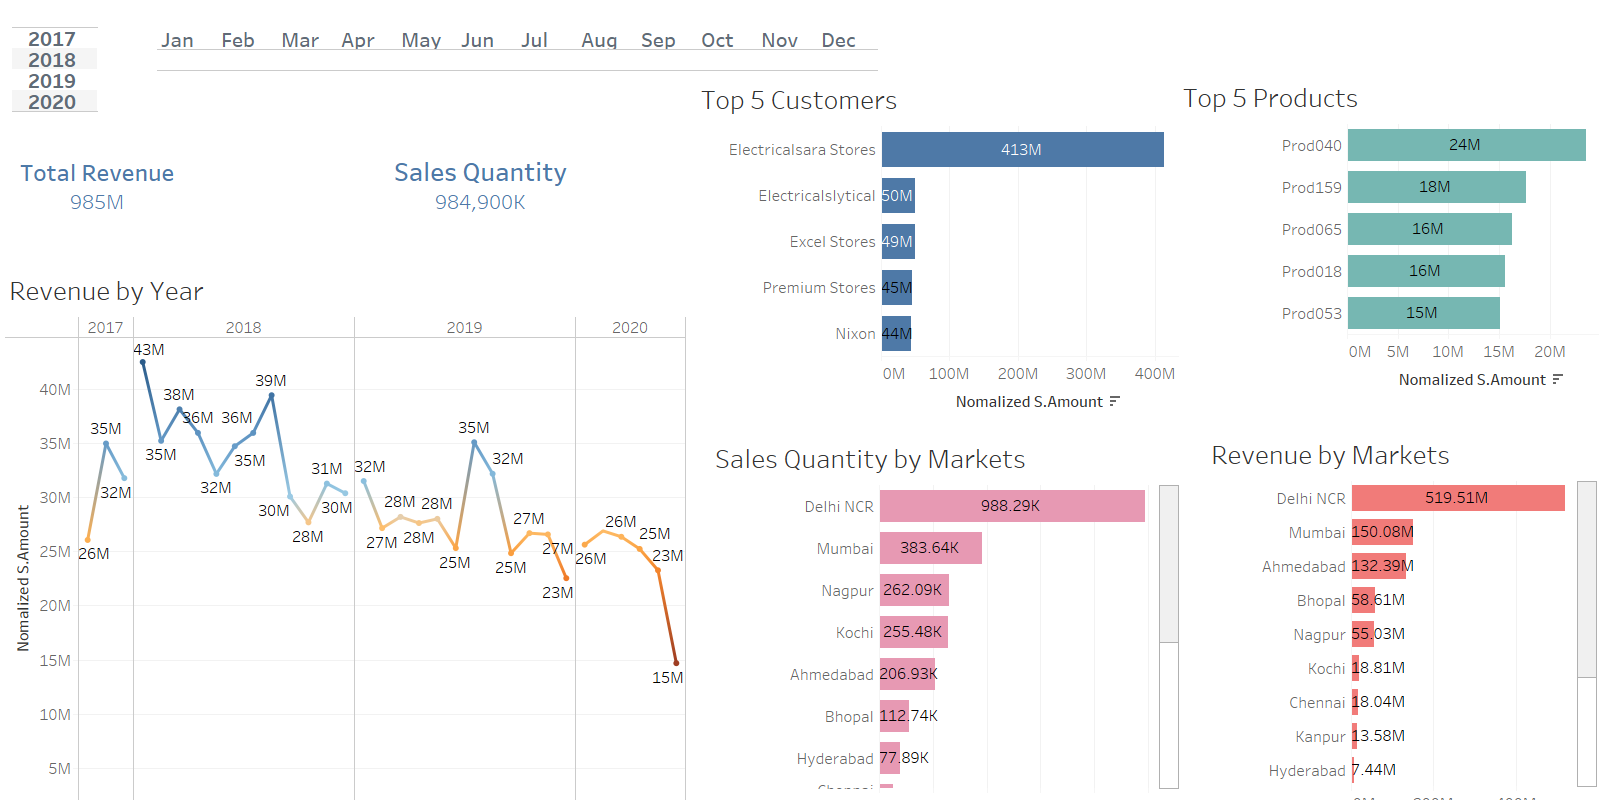

Layout of this report page (visuals, bound fields, positions):
{"tool":"powerbi","page":{"name":"Page 1","canvas":[2000,1000],"ordinal":0},"visuals":[{"type":"card","fields":{"Values":["Base measures.Revenue"]},"box":[485.2,0,311.1,137],"z":0},{"type":"card","fields":{"Values":["Base measures.Total Sales Quantity"]},"box":[1096.3,0,403.7,138.9],"z":1},{"type":"clusteredBarChart","title":"Top 5 customers with highest Revenue","fields":{"Category":["sales customers.custmer_name"],"Y":["Base measures.Revenue"]},"box":[0,650,968.5,350],"z":2},{"type":"clusteredBarChart","title":"Top 5 customer with highest Sales Quantity","fields":{"Category":["sales customers.custmer_name"],"Y":["Base measures.Total Sales Quantity"]},"box":[1000,650,1000,350],"z":3},{"type":"lineChart","fields":{"Category":["sales date.date.Variation.Date Hierarchy.Year","sales date.date.Variation.Date Hierarchy.Day"],"Y":["Base measures.Revenue"]},"box":[0,0,485.2,327.8],"z":4},{"type":"clusteredBarChart","title":"Top 5 markets with highest Sales Quantity","fields":{"Category":["sales markets.markets_name"],"Y":["Base measures.Total Sales Quantity"]},"box":[1000,327.8,1000,322.2],"z":5},{"type":"clusteredBarChart","title":"Top 5 markets with highest Revenue","fields":{"Y":["Base measures.Revenue"],"Category":["sales markets.markets_name"]},"box":[0,327.8,942.6,322.2],"z":6},{"type":"lineChart","fields":{"Category":["sales date.date.Variation.Date Hierarchy.Year","sales date.date.Variation.Date Hierarchy.Day"],"Y":["Base measures.Total Sales Quantity"]},"box":[1514.7,0,485.3,327.9],"z":7}]}

Visuals, with their boxes in screenshot pixels (x1, y1, x2, y2), scaled from the page's 2000x1000 canvas onto the 1600x800 screenshot:
card - Base measures.Revenue: pyautogui.locateOnScreen(388, 0, 637, 110)
card - Base measures.Total Sales Quantity: pyautogui.locateOnScreen(877, 0, 1200, 111)
"Top 5 customers with highest Revenue" clusteredBarChart: pyautogui.locateOnScreen(0, 520, 775, 799)
"Top 5 customer with highest Sales Quantity" clusteredBarChart: pyautogui.locateOnScreen(800, 520, 1599, 799)
lineChart - sales date.date.Variation.Date Hierarchy.Year x sales date.date.Variation.Date Hierarchy.Day: pyautogui.locateOnScreen(0, 0, 388, 262)
"Top 5 markets with highest Sales Quantity" clusteredBarChart: pyautogui.locateOnScreen(800, 262, 1599, 520)
"Top 5 markets with highest Revenue" clusteredBarChart: pyautogui.locateOnScreen(0, 262, 754, 520)
lineChart - sales date.date.Variation.Date Hierarchy.Year x sales date.date.Variation.Date Hierarchy.Day: pyautogui.locateOnScreen(1212, 0, 1599, 262)
